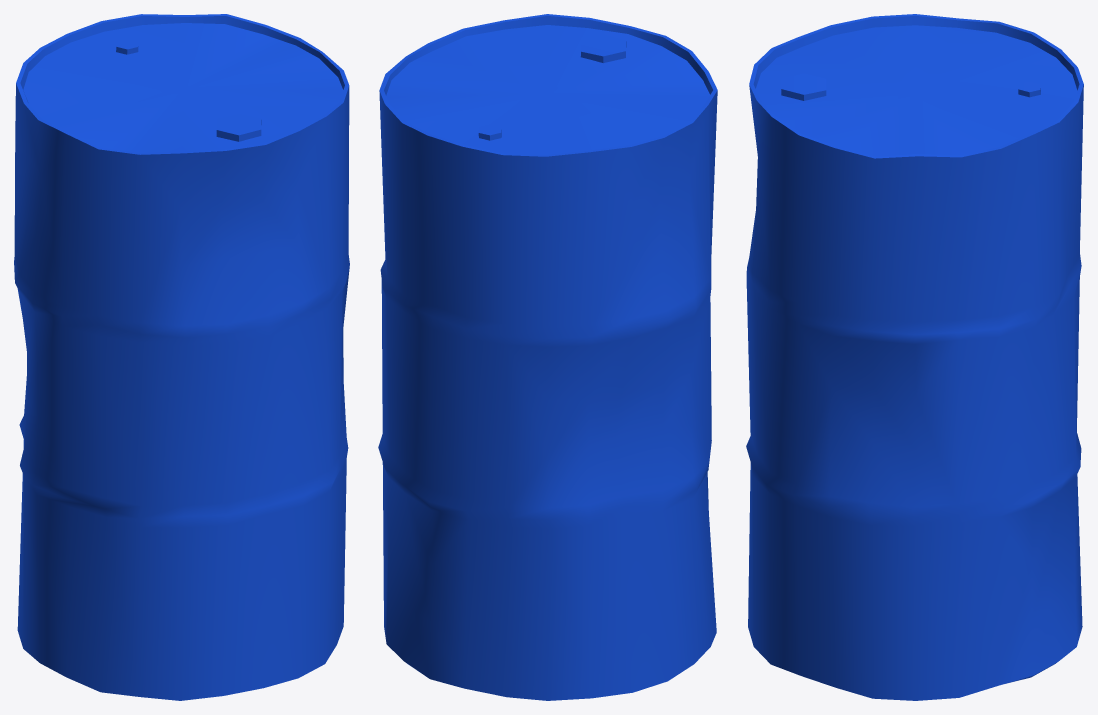
File: barrel_damage2.fbx
The picture shows the model from 3 angles, left to right: view 1: azimuth 30°, elevation 25°; view 2: azimuth 150°, elevation 25°; view 3: azimuth 270°, elevation 25°; orthographic projection.
Visible parts, largest first — view 1: barrel_damage2; view 2: barrel_damage2; view 3: barrel_damage2.
Part boxes in pixels (<box>): barrel_damage2: <box>14,14,349,700</box>; barrel_damage2: <box>378,14,717,700</box>; barrel_damage2: <box>746,14,1083,700</box>.
Size of the model in its own units: 50.8 by 90.21 by 50.14.
